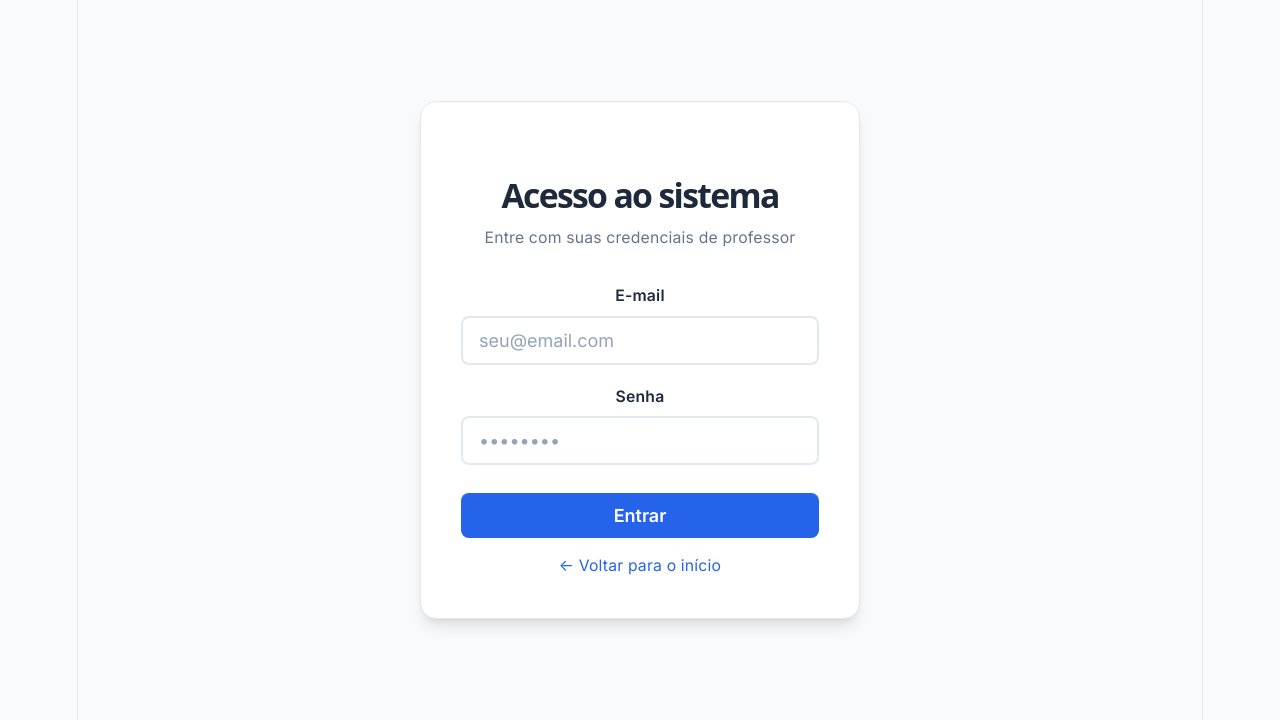
LoginPage › should show validation error for invalid email
Type "invalid-email" into the field labelled "E-mail".
click(640, 340); type("invalid-email")  # box x1=461 y1=316 x2=819 y2=365
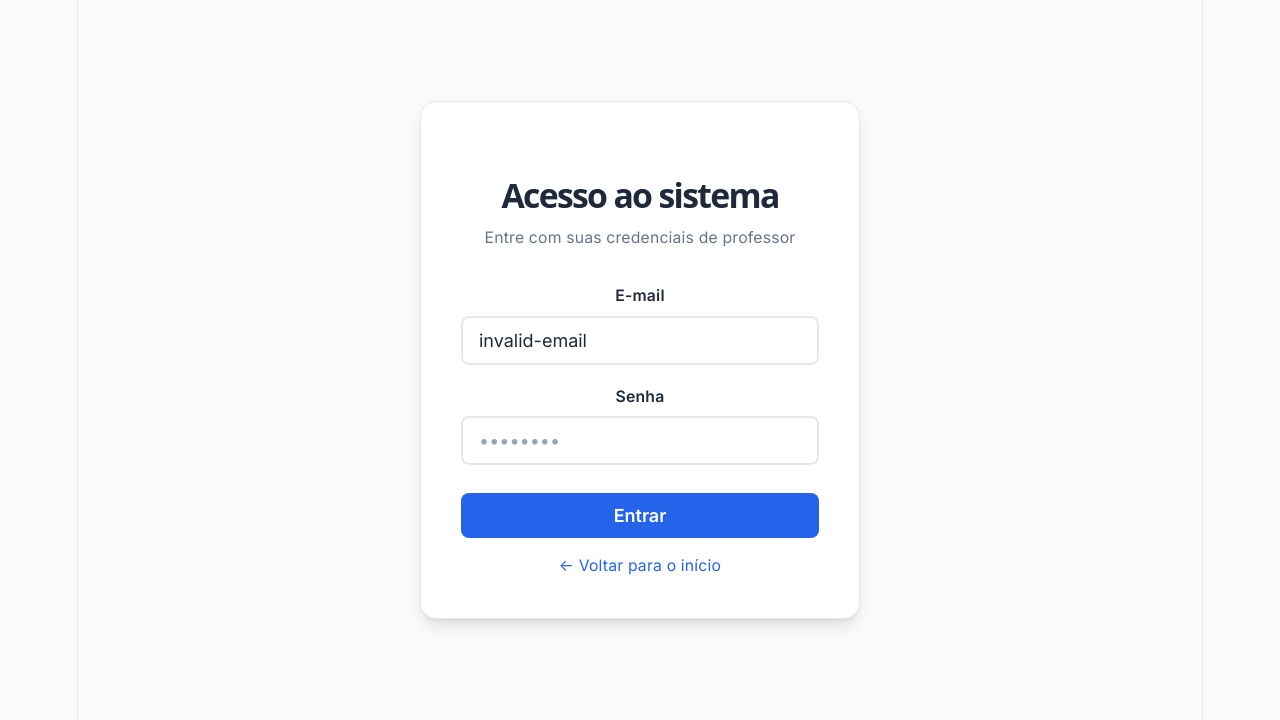
Click the button "Entrar".
click(640, 516)  # box x1=461 y1=493 x2=819 y2=538
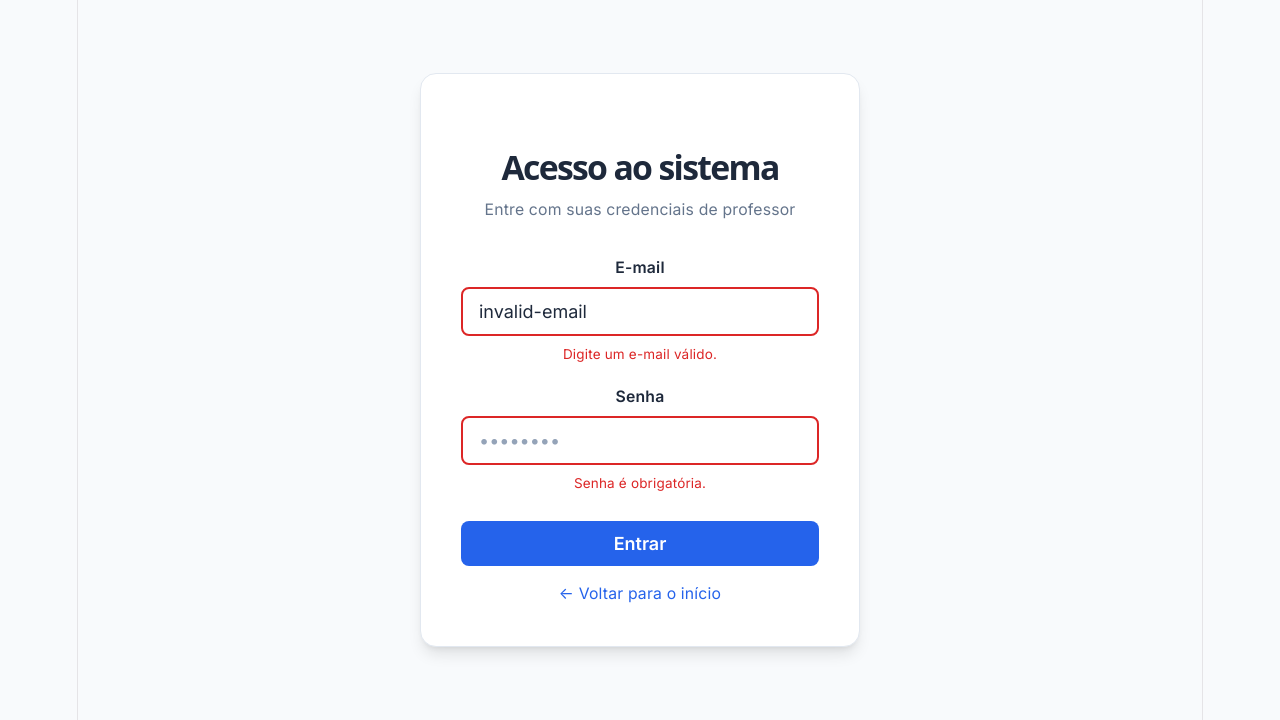
Expected: the text "Digite um e-mail válido." is shown, x1=563 y1=346 x2=717 y2=362
